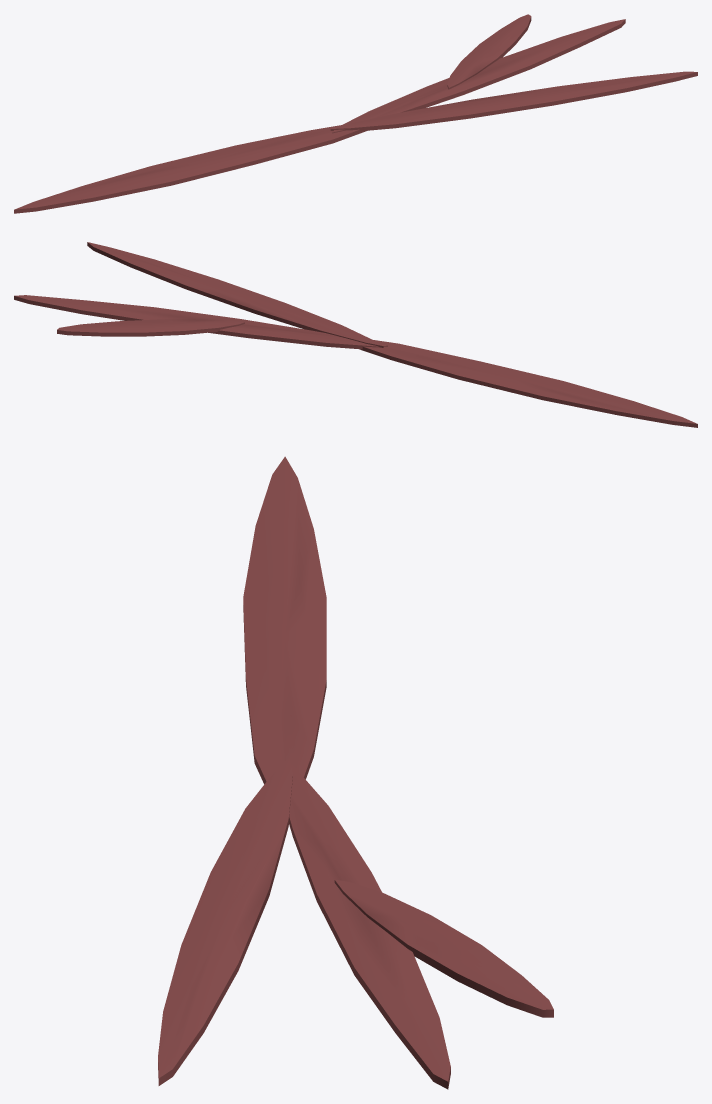
Rendered from lanternwrack.glb.
The picture shows the model from 3 angles, top to bottom: view 1: azimuth 30°, elevation 25°; view 2: azimuth 150°, elevation 25°; view 3: azimuth 270°, elevation 25°; orthographic projection. The views are drawn at different scales.
Parts seen in each view (by area): view 1: lanternwrack; view 2: lanternwrack; view 3: lanternwrack.
Boxes of the visible parts, x1=… form: lanternwrack: x1=14, y1=14, x2=697, y2=213; lanternwrack: x1=14, y1=242, x2=697, y2=427; lanternwrack: x1=158, y1=456, x2=553, y2=1089.
Bounding box in the file's own units: 0.15 × 0.002 × 0.04.
